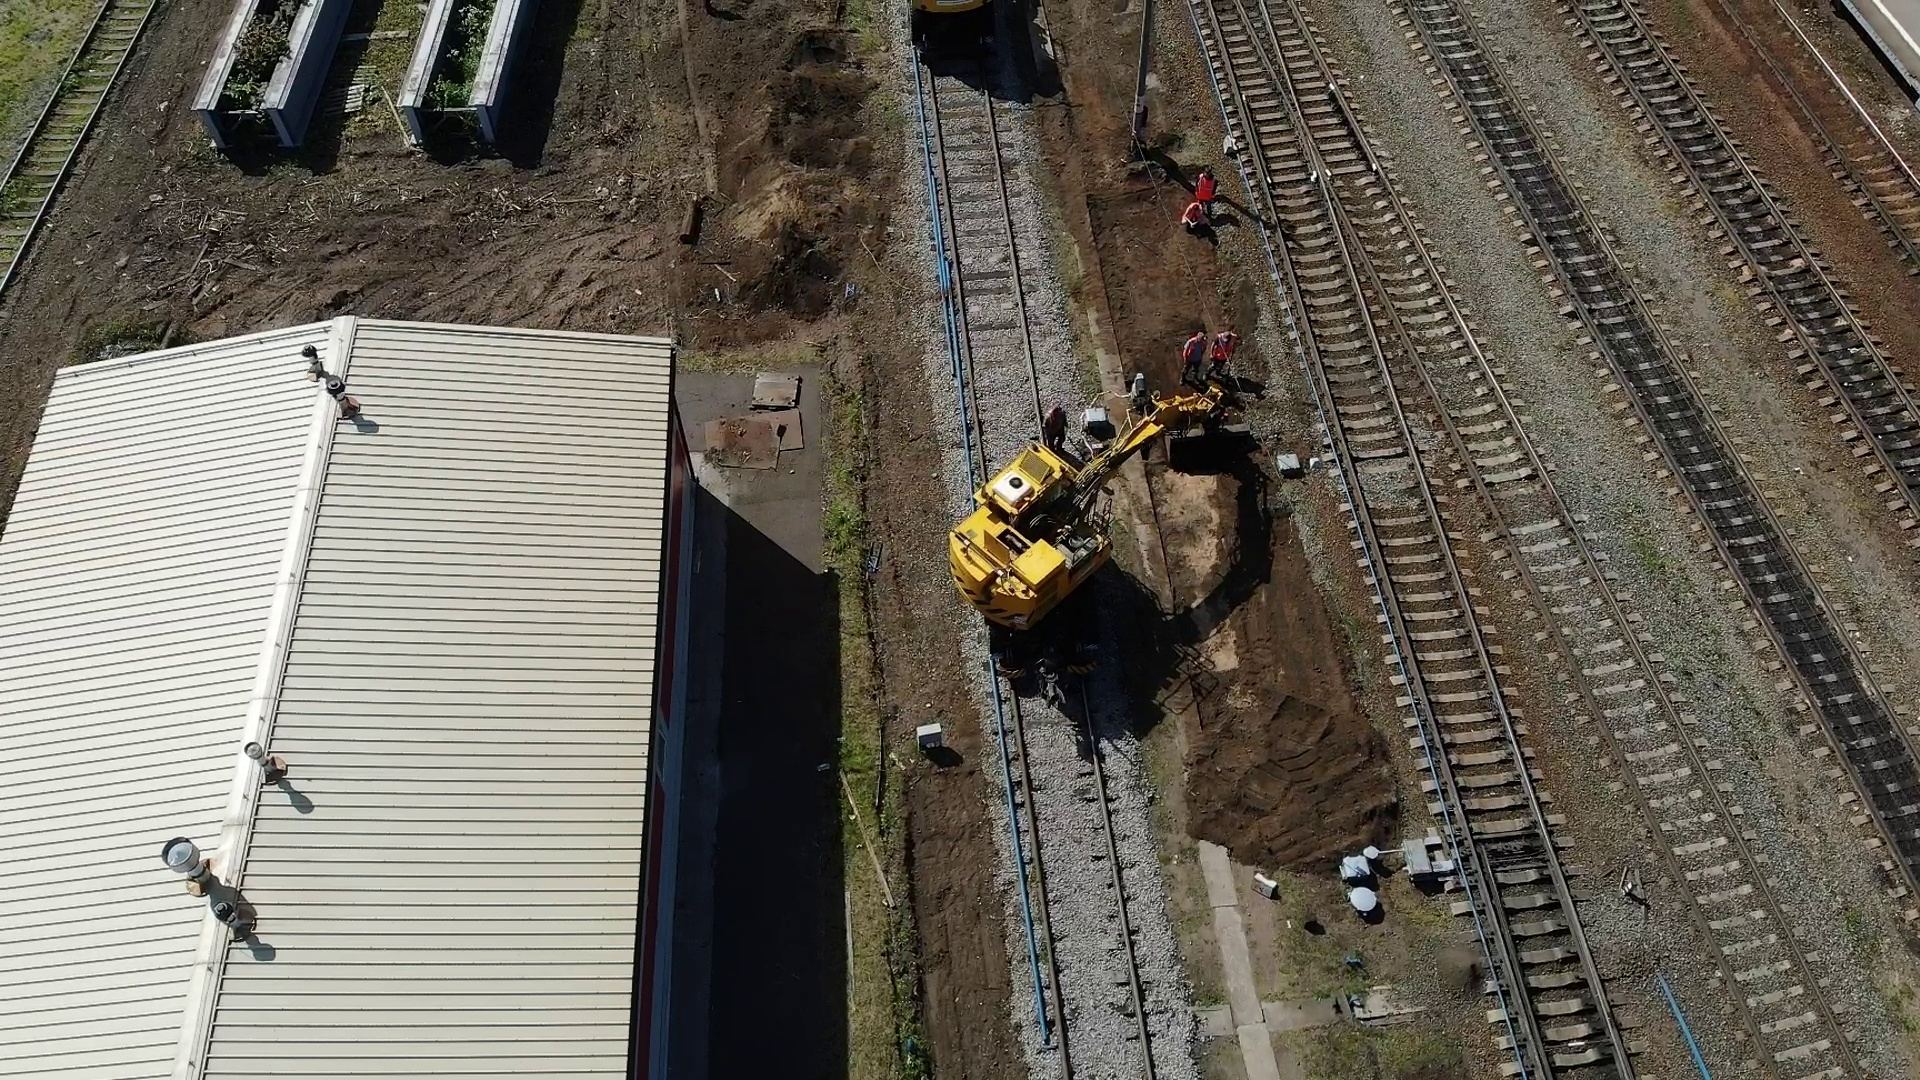kjtv: (936, 399, 1153, 653)
